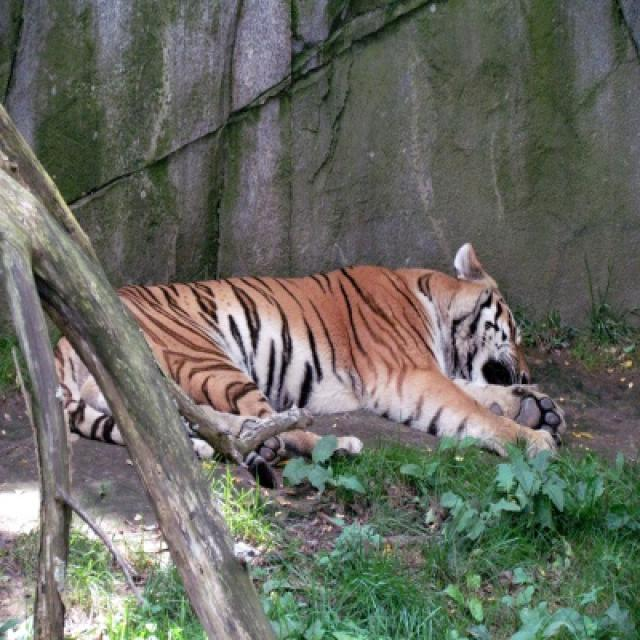Tiger: (118, 243, 563, 448), (54, 338, 118, 442)
